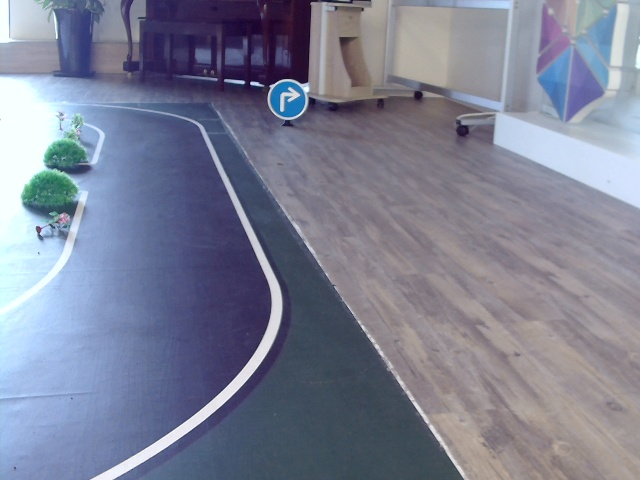turn_right: (273, 83, 300, 113)
